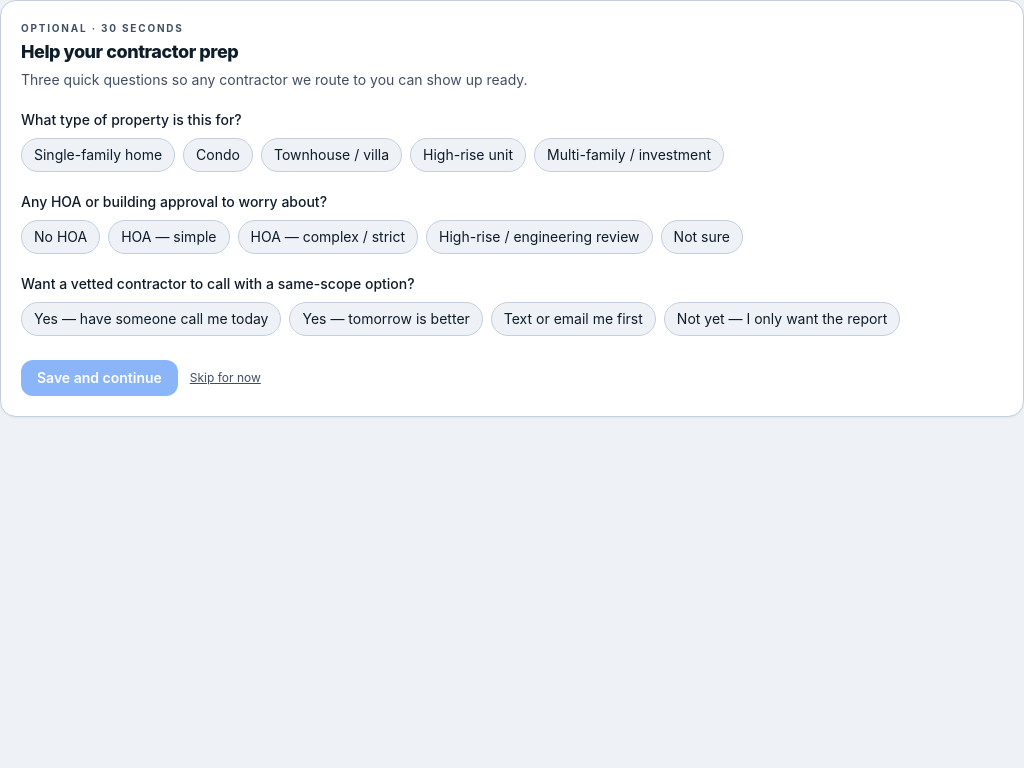
Scenario: PropertyAndConsentStep contractor consent › shows contractor checkbox only when a contractor handoff is selected
This screenshot has width=1024, height=768.
Click the radio button labelled "Yes — have someone call me today" at (151, 319), box x1=21 y1=302 x2=282 y2=336
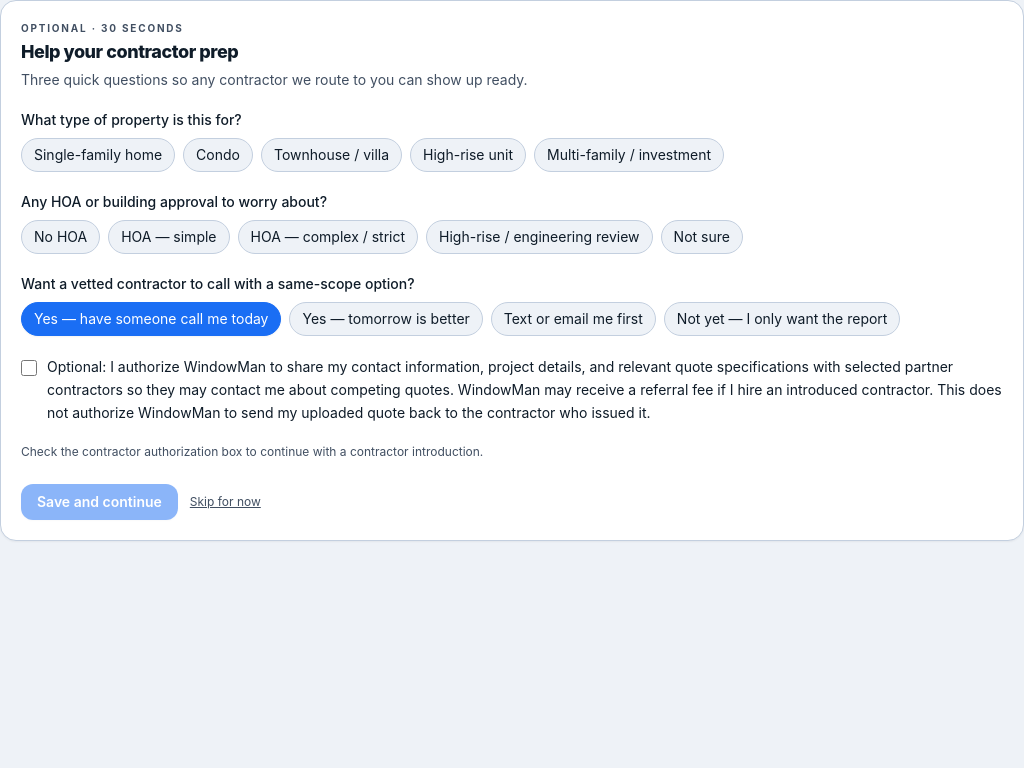
Expected: the checkbox labelled "Optional: I authorize WindowMan to share" is not checked, x1=21 y1=360 x2=37 y2=376
